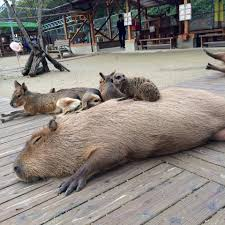capivara: (15, 89, 225, 197)
